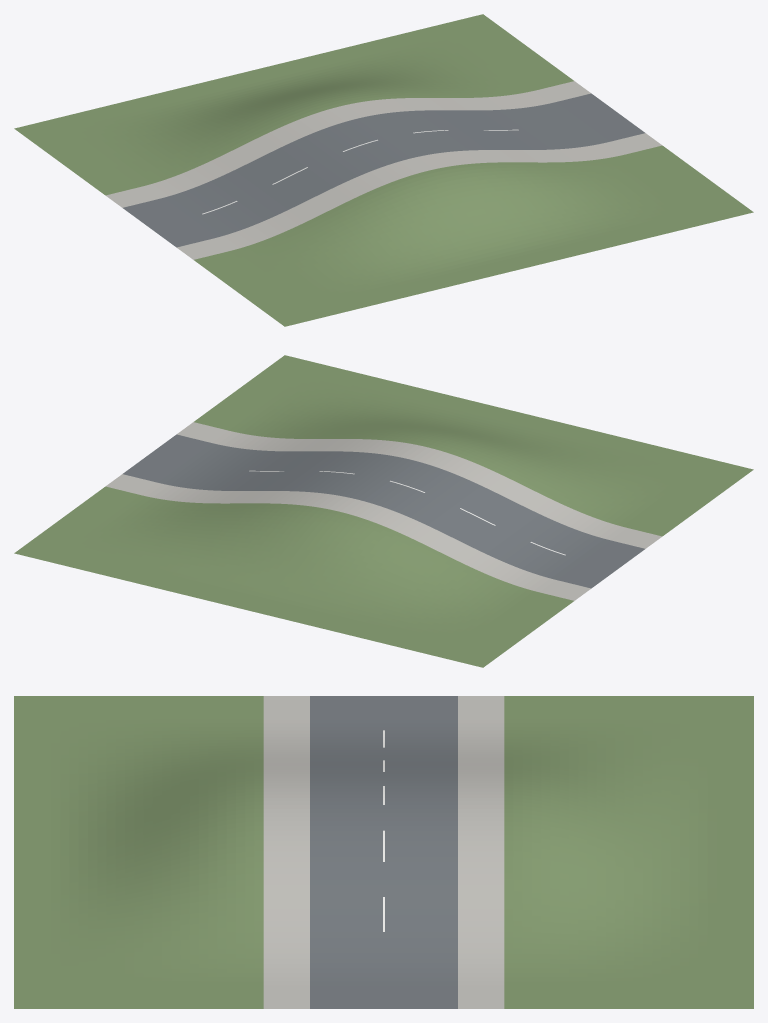
Rendered from hill.glb.
3 views of the same model, one above another, from view 1: azimuth 30°, elevation 25°; view 2: azimuth 150°, elevation 25°; view 3: azimuth 270°, elevation 25° (orthographic). The views are drawn at different scales.
Parts seen in each view (by area): view 1: lawn, road, sidewalk; view 2: lawn, road, sidewalk; view 3: lawn, road, sidewalk.
Part boxes in pixels (x1=…): lawn: x1=14, y1=14, x2=753, y2=326; road: x1=123, y1=93, x2=644, y2=247; sidewalk: x1=105, y1=81, x2=662, y2=259; lawn: x1=14, y1=355, x2=753, y2=667; road: x1=123, y1=434, x2=644, y2=588; sidewalk: x1=105, y1=422, x2=662, y2=600; lawn: x1=14, y1=696, x2=753, y2=1008; road: x1=310, y1=696, x2=457, y2=1008; sidewalk: x1=263, y1=696, x2=504, y2=1008.
Bounding box in the file's own units: 40 × 2.6 × 40.
